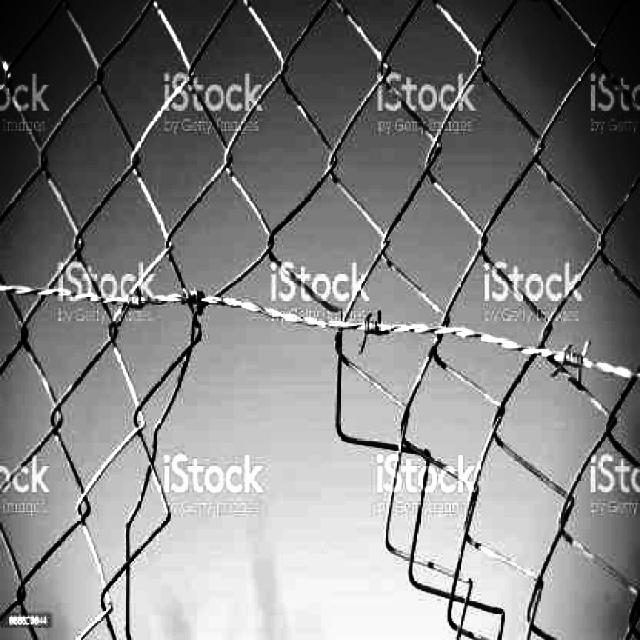anomaly-fence: (94, 274, 493, 634)
